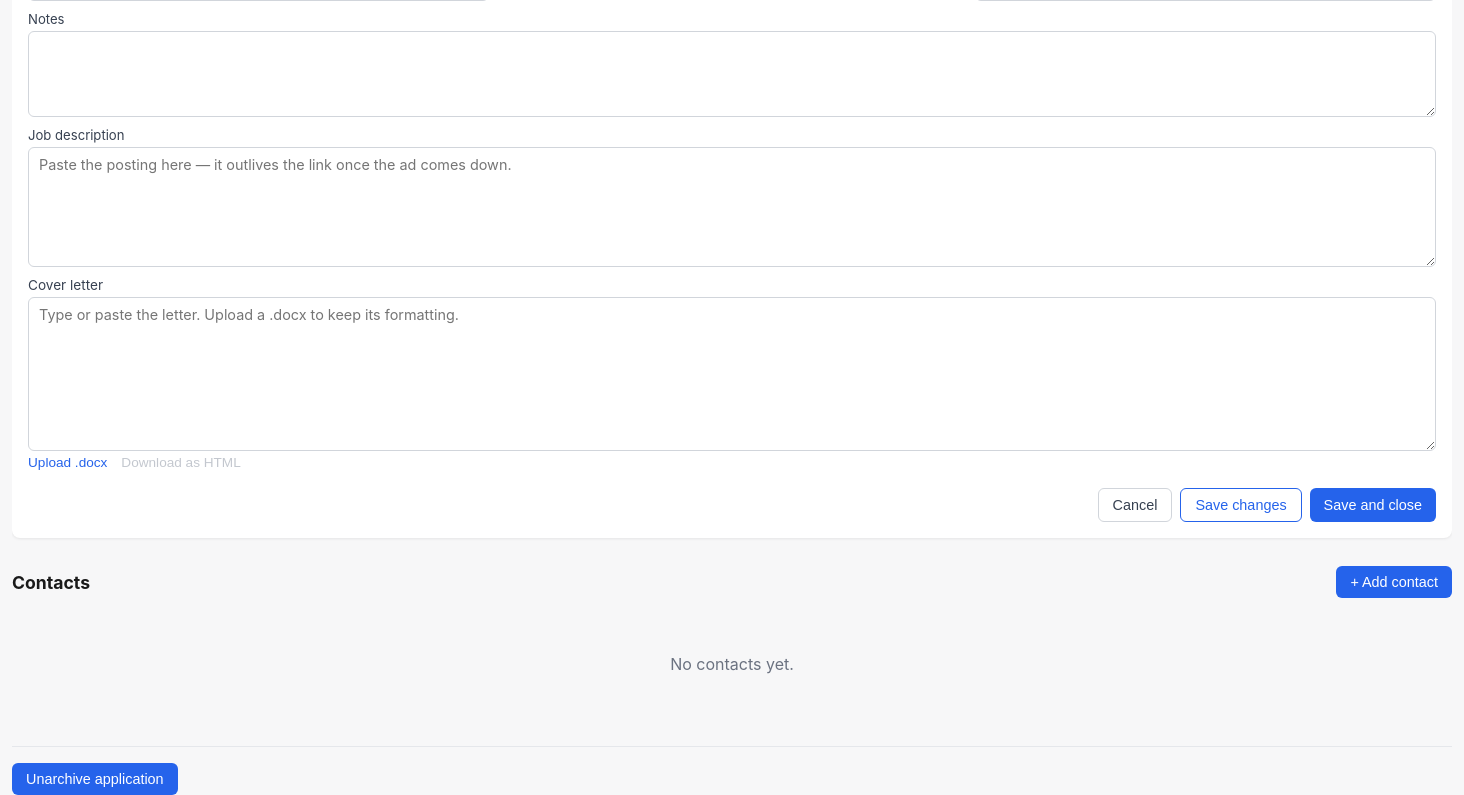
Test: ApplicationPage — existing application › when already archived › restores the record in place, without leaving the page
(page scrolled)
What coordinates should you click on to do the following:
click the button "Unarchive application"
I would click on:
 (95, 779)
Its box is [12,763,178,794].
(page scrolled)
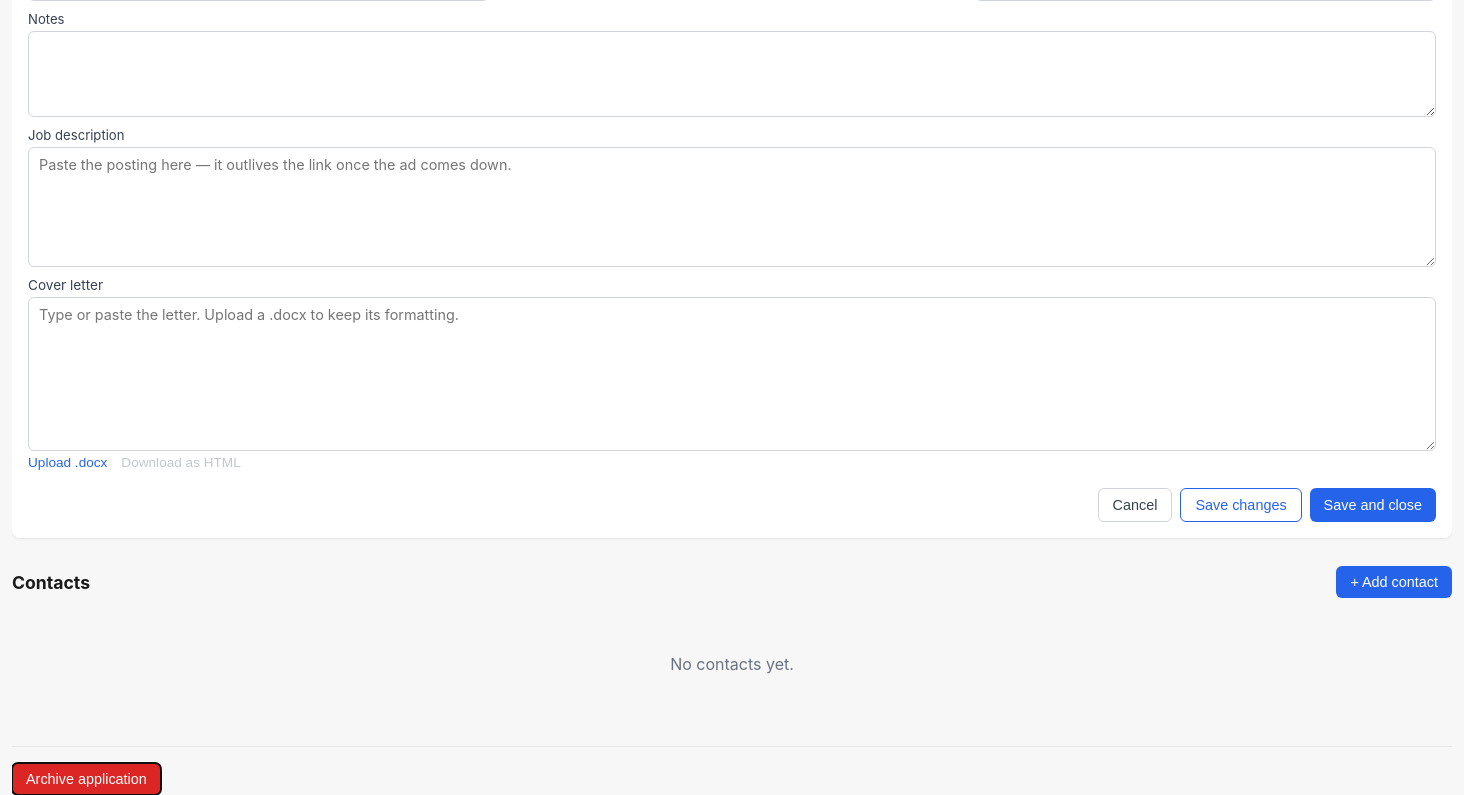
Now the button "Archive application" is shown, box [12,763,161,794]
